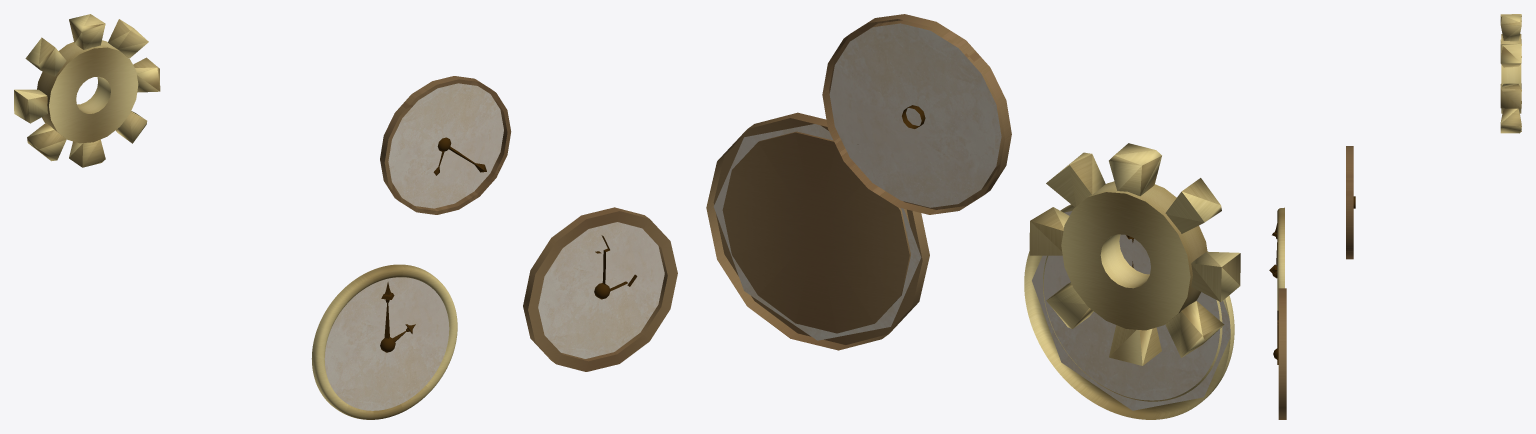
File: all clocks and 1 cogwheel.fbx
The picture shows the model from 3 angles, left to right: view 1: azimuth 30°, elevation 25°; view 2: azimuth 150°, elevation 25°; view 3: azimuth 270°, elevation 25°; orthographic projection. The views are drawn at different scales.
Visible parts, largest first — view 1: cog_type_1, Disc, Disc_3, Disc_2, Disc_1_2, Disc_1; view 2: Disc_1_2, Disc, cog_type_1, Disc_2, Disc_1, Disc_3; view 3: cog_type_1, Disc_1_2, Disc, Disc_1.
Part boxes in pixels (<box>): cog_type_1: <box>14,14,160,167</box>; Disc: <box>380,76,511,214</box>; Disc_3: <box>538,222,664,358</box>; Disc_2: <box>324,277,449,410</box>; Disc_1_2: <box>523,207,677,371</box>; Disc_1: <box>311,264,457,419</box>; Disc_1_2: <box>706,112,929,350</box>; Disc: <box>822,14,1011,214</box>; cog_type_1: <box>1029,143,1240,365</box>; Disc_2: <box>1032,211,1230,410</box>; Disc_1: <box>1024,204,1234,419</box>; Disc_3: <box>713,124,921,340</box>; cog_type_1: <box>1500,14,1521,133</box>; Disc_1_2: <box>1278,288,1286,419</box>; Disc: <box>1346,146,1353,259</box>; Disc_1: <box>1277,207,1284,310</box>.
Bounding box in the file's own units: 804 × 495 × 444.
Materials: 5 (4 with a texture image).
